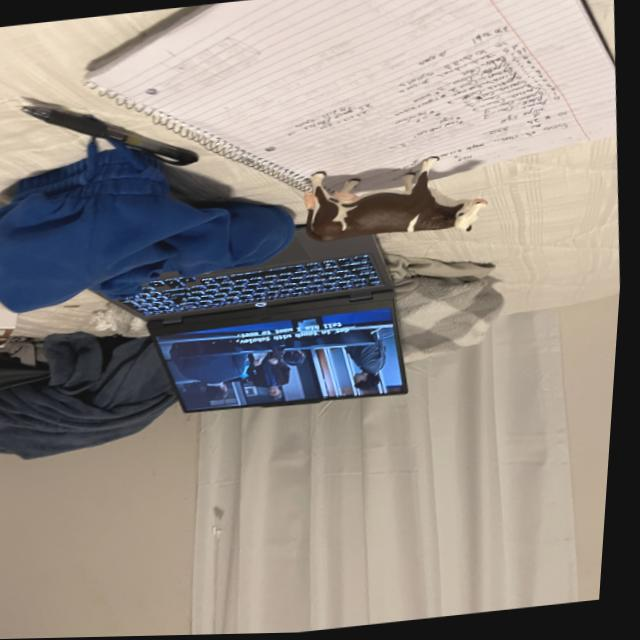cow: (304, 155, 491, 243)
